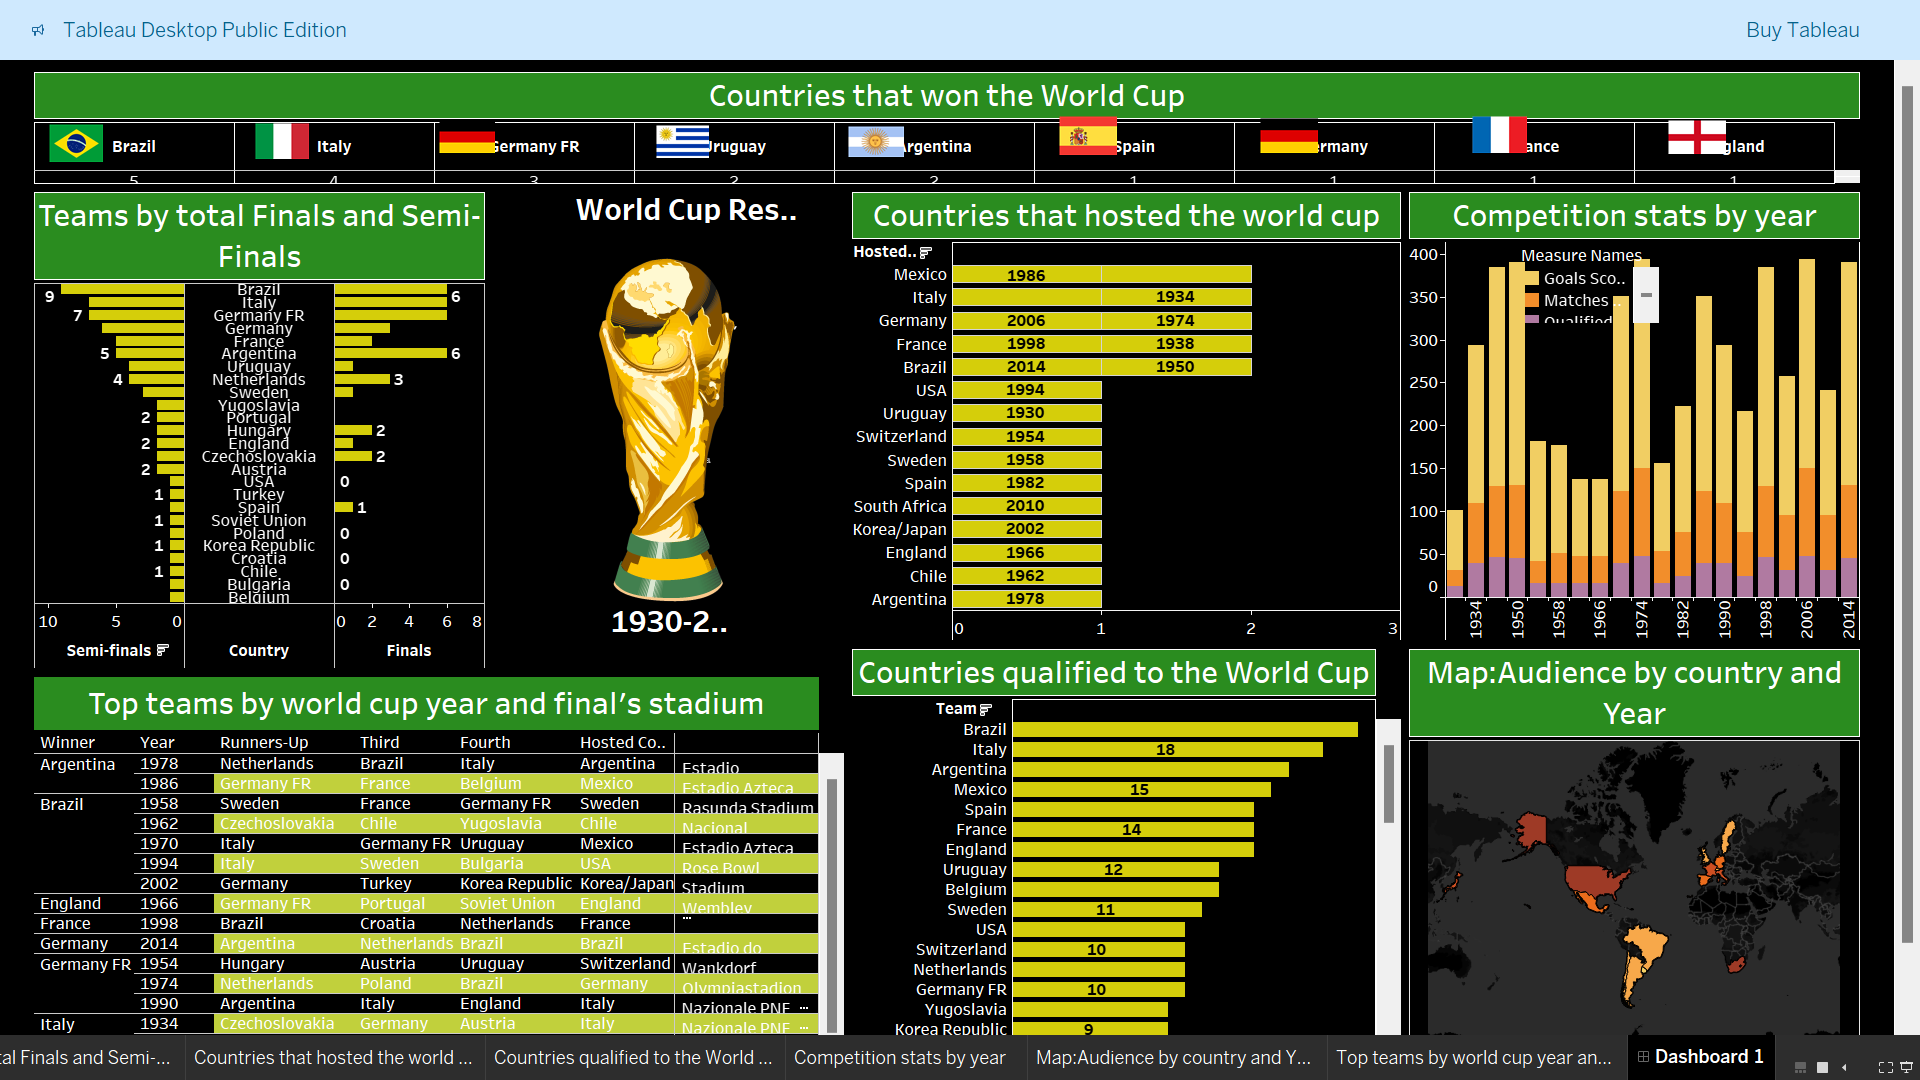

This screenshot's page, from the dashboard's own definition file:
{"tool":"tableau","page":{"name":"Dashboard 1","canvas":[1850,1050],"ordinal":0},"visuals":[{"type":"worksheet","title":"Countries that won the World Cup","mark":"Automatic","cols":["Winner"],"box":[8,8,1834,120]},{"type":"image","param":"Image/Spain flag.jpg","box":[1025,56,83,39]},{"type":"image","param":"Image/France Flag.jpg","box":[1152,56,651,37]},{"type":"image","param":"Image/England flag.png","box":[1646,56,58,43]},{"type":"image","param":"Image/Germany flag.png","box":[417,58,56,38]},{"type":"image","param":"Image/Germany flag.png","box":[1233,58,68,35]},{"type":"image","param":"Image/Italy flag.png","box":[229,63,62,36]},{"type":"image","param":"Image/Brazil flag.png","box":[19,64,71,38]},{"type":"image","param":"Image/uruguay flag.png","box":[629,65,63,33]},{"type":"image","param":"Image/Argentina flag.jfif","box":[826,65,56,34]},{"type":"worksheet","title":"Finals and Semi-Finals","mark":"Automatic","rows":["Team"],"cols":["Calculation_1941332974280015873","Calculation_1941332974280372226","Calculation_1941332974279802880"],"box":[8,128,458.5,485]},{"type":"image","param":"Image/worl cup pic.png","box":[466.5,128,359.5,485]},{"type":"worksheet","title":"Countries that hosted the wc","mark":"Automatic","rows":["Country"],"cols":["Year"],"box":[826,128,557.5,457.5]},{"type":"worksheet","title":"Competition stats by year","mark":"Bar","cols":["Year (WorldCupMatches)"],"box":[1383.5,128,458.5,457.5]},{"type":"text","box":[549,133,227,30]},{"type":"legend","title":"Competition stats by year","param":"[federated.0ttxm8b15s3en2124zkir0a6v5vx].[:Measure Names]","box":[1499,184,140,79]},{"type":"text","box":[580,543,135,34]},{"type":"worksheet","title":"Countries qualified to the wc","mark":"Automatic","rows":["Team"],"cols":["Year (World Cup - Tableau format)"],"box":[826,585.5,557.5,456.5]},{"type":"worksheet","title":"Map:Audience by country and Year","mark":"Multipolygon","box":[1383.5,585.5,458.5,456.5]},{"type":"worksheet","title":"Top teams by wc year and final's stadium","mark":"Automatic","rows":["Winner","Year","Runners-Up","Third","Fourth","Country"],"box":[8,613,818,429]}]}

Visuals, with their boxes on the page's 1850x1050 design canvas (x1, y1, x2, y2). These are canvas units, not pixel positions in the 1920x1080 screenshot, which may show the page scaled, cropped or inside an application window:
"Countries that won the World Cup" worksheet: (8,8,1842,128)
image: (1025,56,1108,95)
image: (1152,56,1803,93)
image: (1646,56,1704,99)
image: (417,58,473,96)
image: (1233,58,1301,93)
image: (229,63,291,99)
image: (19,64,90,102)
image: (629,65,692,98)
image: (826,65,882,99)
"Finals and Semi-Finals" worksheet: (8,128,466,613)
image: (466,128,826,613)
"Countries that hosted the wc" worksheet: (826,128,1384,586)
"Competition stats by year" worksheet (Bar marks): (1384,128,1842,586)
text: (549,133,776,163)
"Competition stats by year" legend: (1499,184,1639,263)
text: (580,543,715,577)
"Countries qualified to the wc" worksheet: (826,586,1384,1042)
"Map:Audience by country and Year" worksheet (Multipolygon marks): (1384,586,1842,1042)
"Top teams by wc year and final's stadium" worksheet: (8,613,826,1042)
